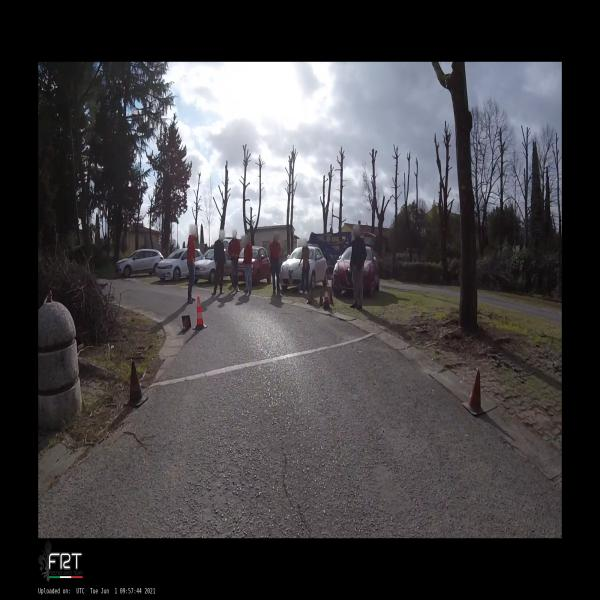large_orange_cone: (193, 295, 208, 330)
orange_cone: (324, 288, 329, 304)
unknown_cone: (124, 361, 148, 407), (462, 370, 486, 415), (182, 316, 192, 332), (330, 291, 334, 304), (319, 292, 323, 304)
